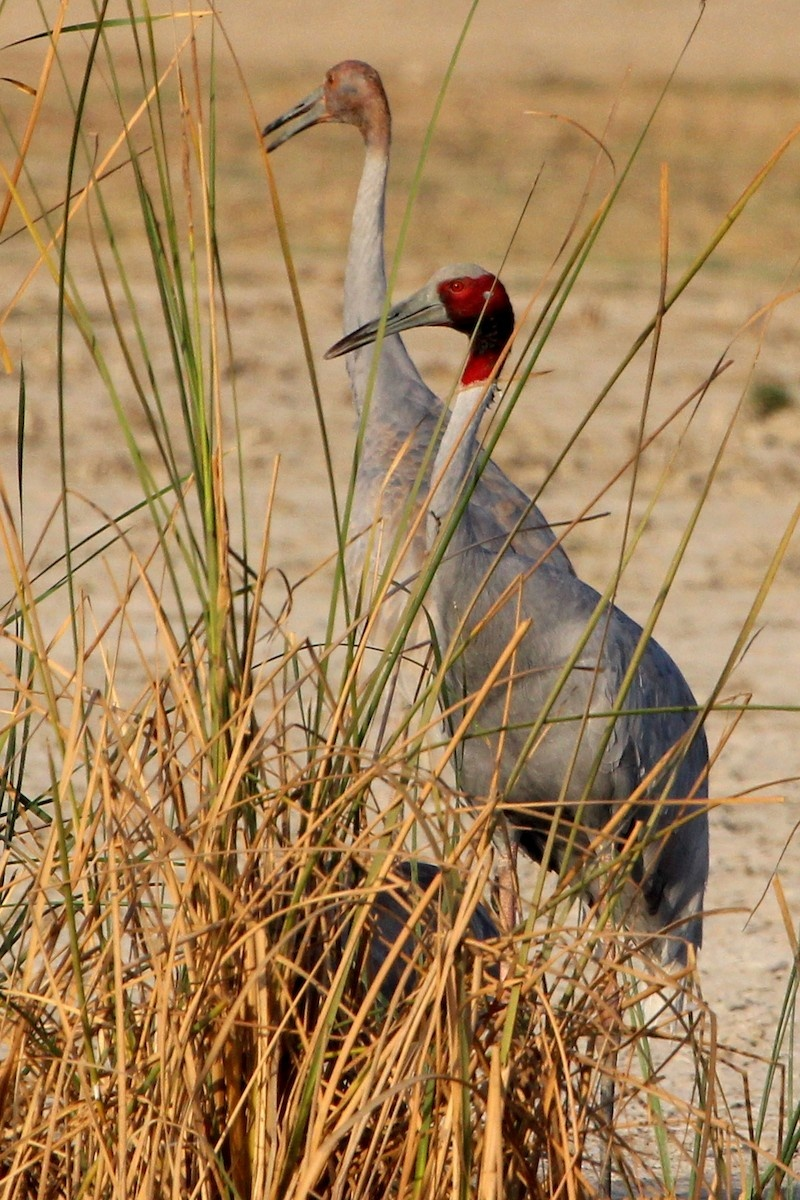crane: (317, 253, 721, 979), (258, 43, 408, 300)
